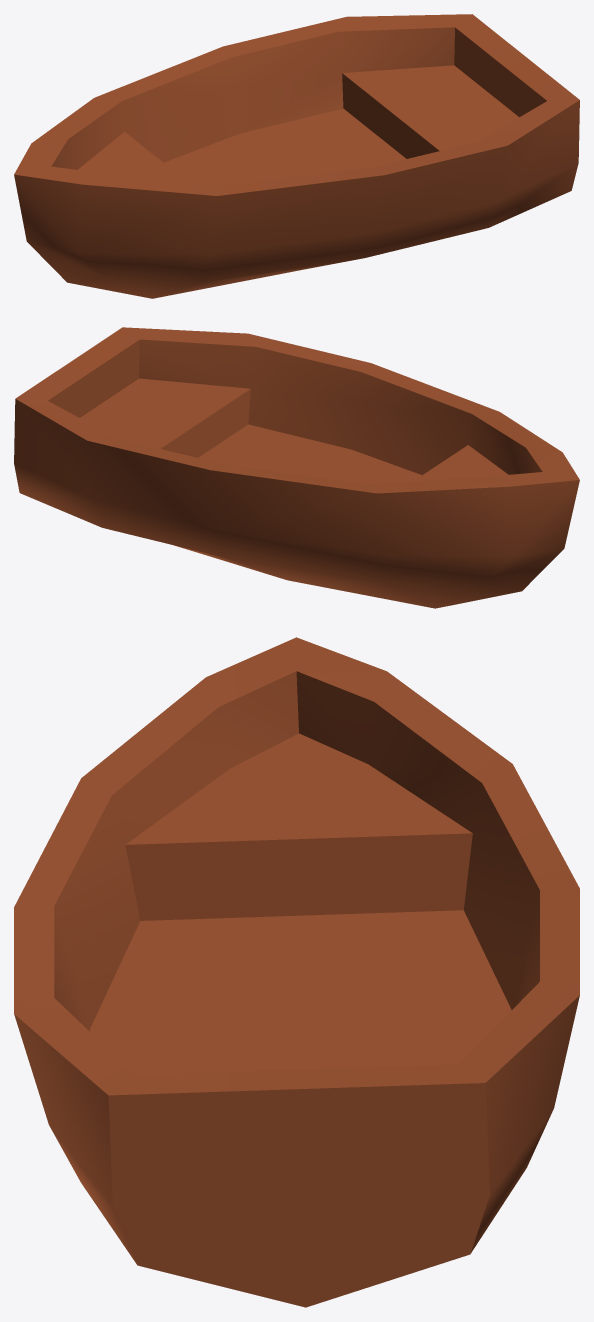
Rendered from Tekne.fbx.
3 renders of one model, top to bottom at view 1: azimuth 30°, elevation 25°; view 2: azimuth 150°, elevation 25°; view 3: azimuth 270°, elevation 25°, orthographic. The views are drawn at different scales.
Parts seen in each view (by area): view 1: Boat_01_stl1; view 2: Boat_01_stl1; view 3: Boat_01_stl1.
Boxes of the visible parts, bbox=[...] form: Boat_01_stl1: bbox=[14, 14, 579, 298]; Boat_01_stl1: bbox=[14, 327, 579, 608]; Boat_01_stl1: bbox=[14, 637, 579, 1307].
Bounding box in the file's own units: 699 × 222 × 381.
